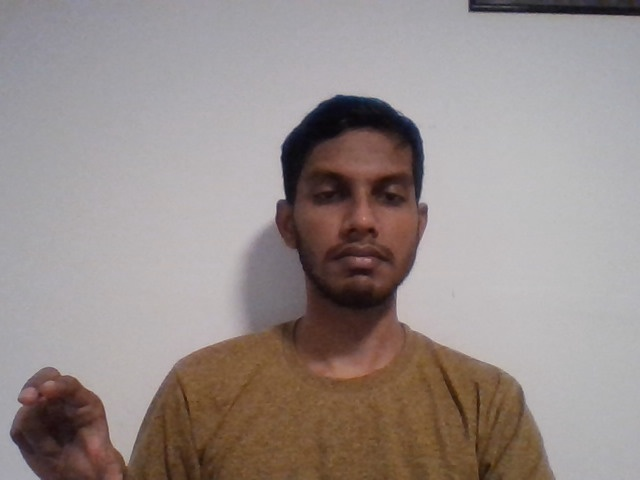no: (4, 345, 148, 480)
